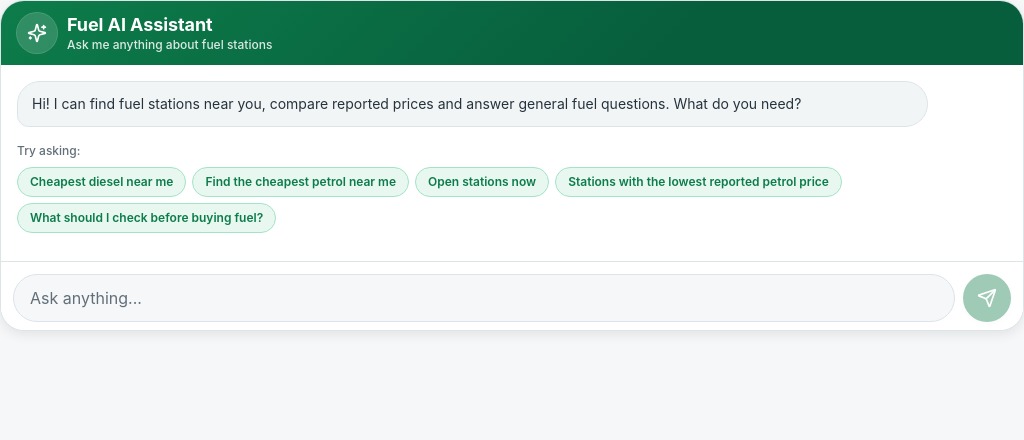
Test: result honesty › shows an honest empty result when no stations match
Type "cheapest petrol" into the field named "Ask Fuel AI" at (484,298), box 13,274 -> 955,322
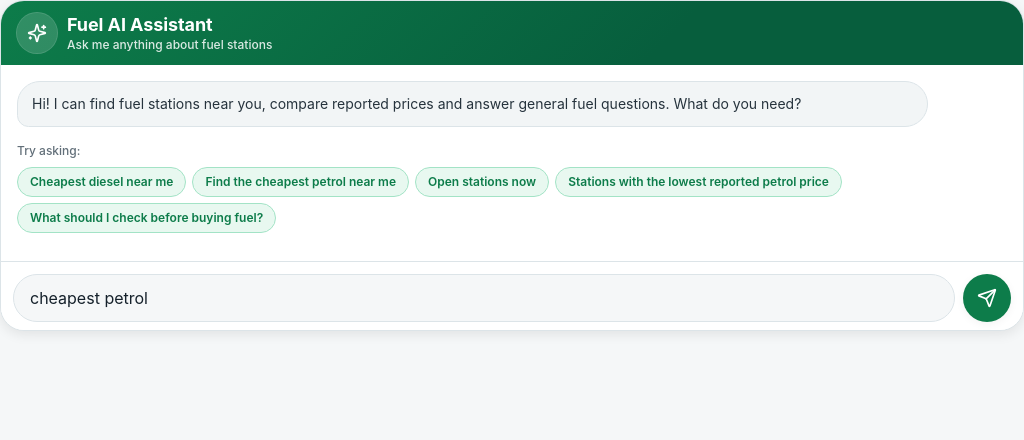
Click the button named "ask fuel ai" at (987,298), box 963,274 -> 1011,322
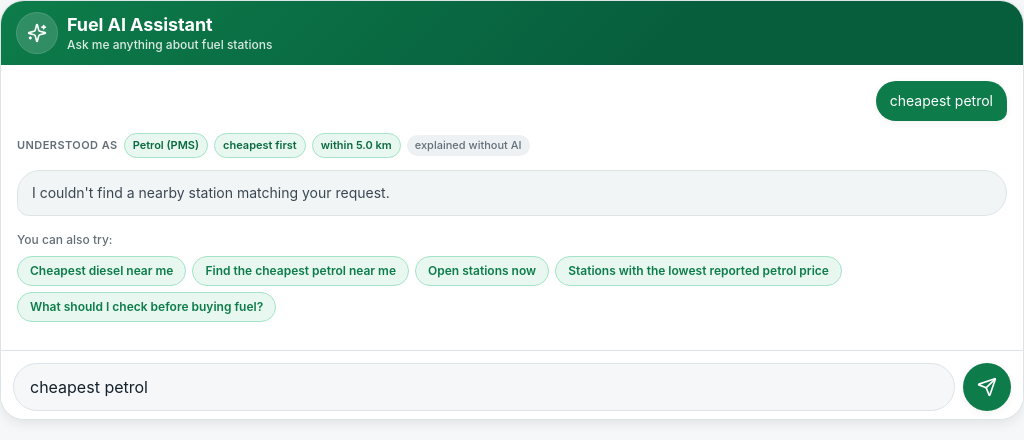
Check: the text "I couldn't find a nearby station matching your request." is shown, box 17,170 -> 1007,216
